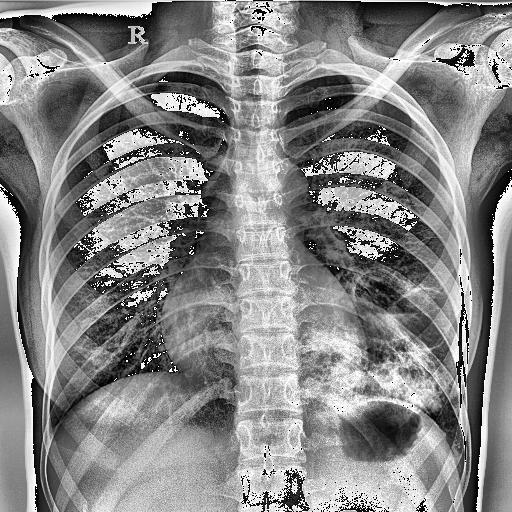3- Cardiomegaly: (146, 228, 371, 404)
4- Consolidation: (319, 299, 461, 435), (304, 306, 464, 424), (322, 302, 454, 420)
